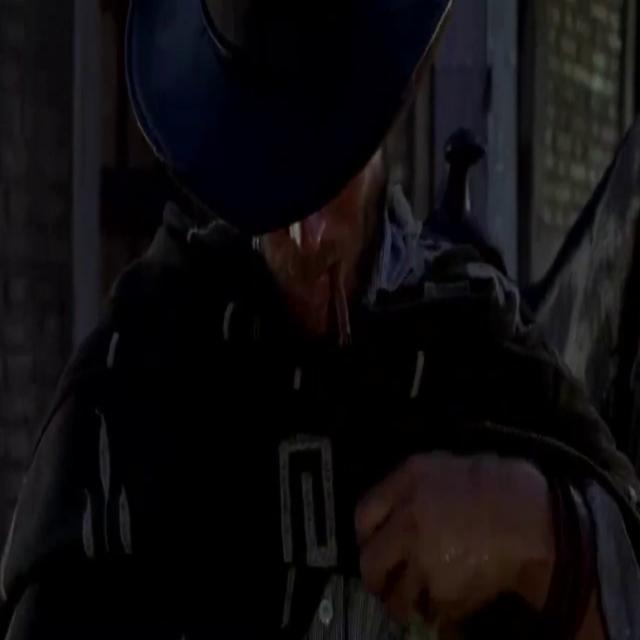Smooking: (328, 262, 354, 350)
